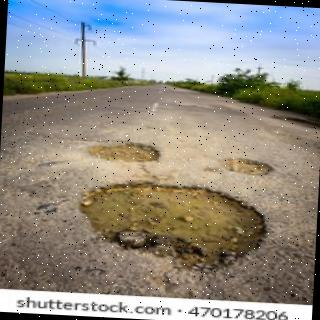pothole: (80, 183, 266, 273), (88, 143, 160, 163), (217, 158, 273, 177)
